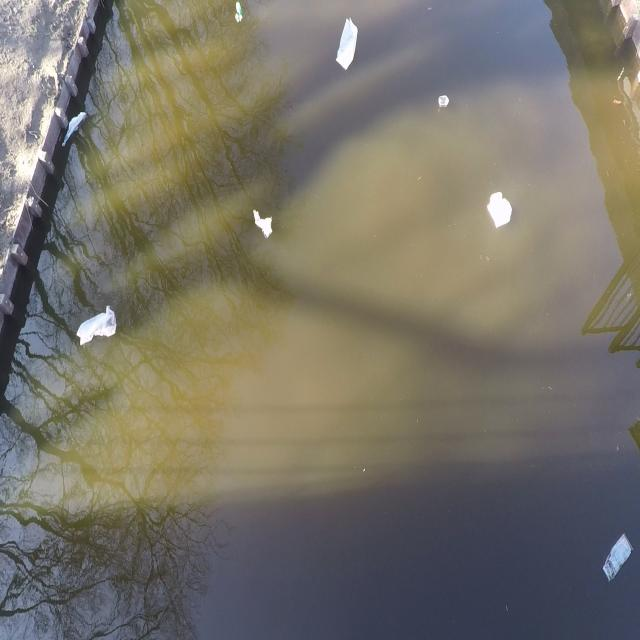Autre plastique: (602, 531, 634, 590), (334, 14, 364, 76), (486, 184, 514, 234), (438, 92, 451, 113)
Sac plastique: (76, 304, 121, 353), (250, 200, 278, 244), (61, 111, 88, 147)
